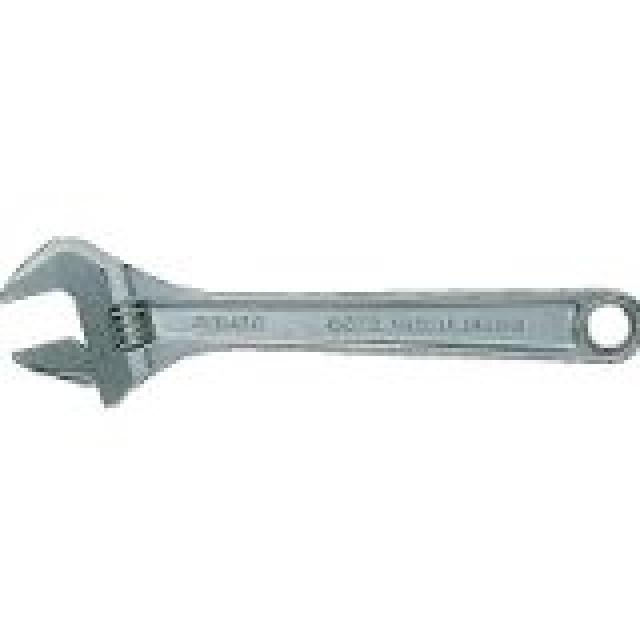wrench: (0, 178, 640, 466)
